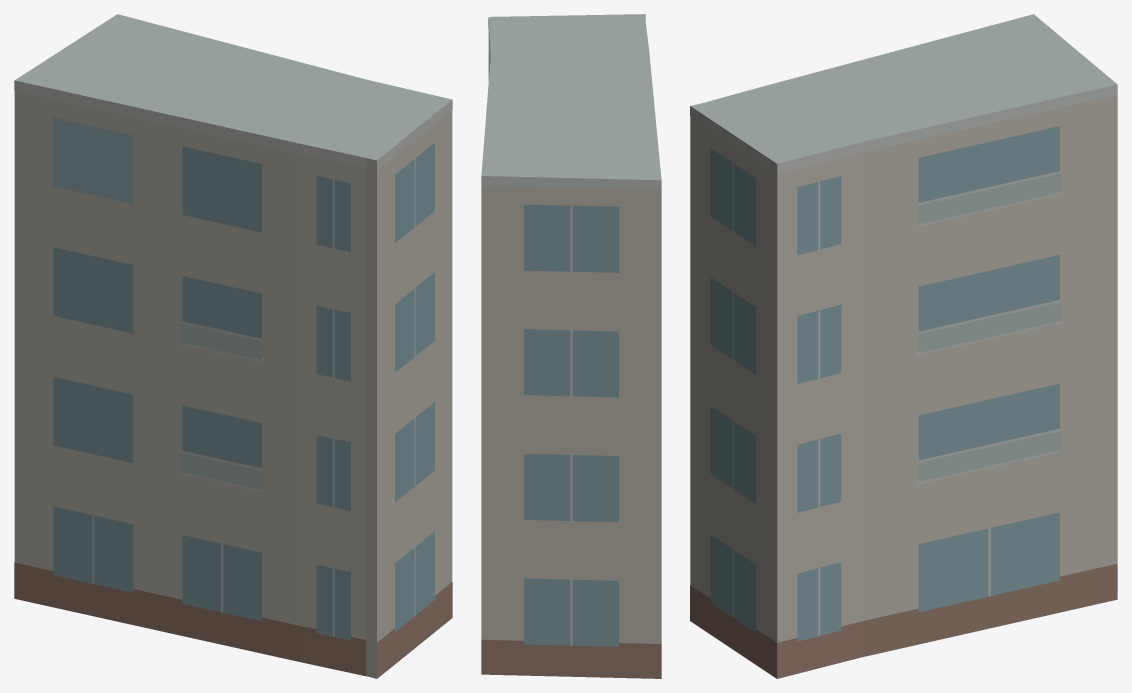
Rendered from survey-upis-32734672.glb.
The picture shows the model from 3 angles, left to right: view 1: azimuth 30°, elevation 25°; view 2: azimuth 150°, elevation 25°; view 3: azimuth 270°, elevation 25°; orthographic projection. The views are drawn at different scales.
Visible parts, largest first — view 1: survey-upis-32734672.tmp; view 2: survey-upis-32734672.tmp; view 3: survey-upis-32734672.tmp.
Boxes of the visible parts, x1=… form: survey-upis-32734672.tmp: x1=14, y1=14, x2=452, y2=678; survey-upis-32734672.tmp: x1=481, y1=14, x2=661, y2=678; survey-upis-32734672.tmp: x1=690, y1=14, x2=1117, y2=678.
Bounding box in the file's own units: 7.56 × 12.1 × 9.11.
